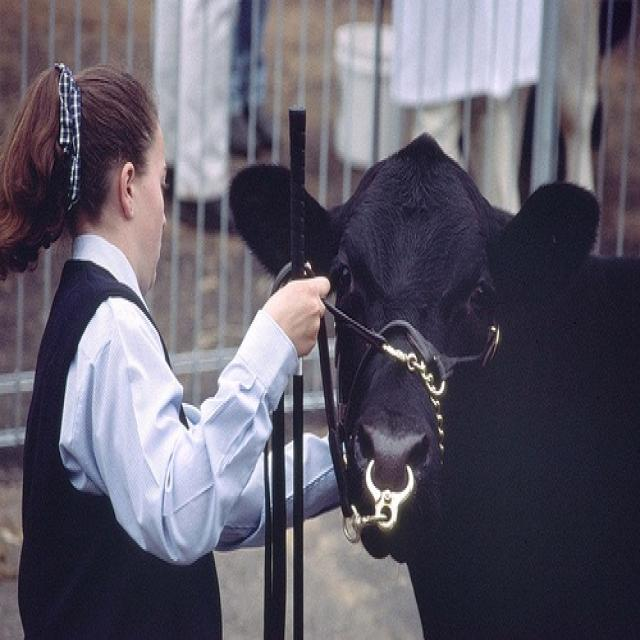cow: (229, 133, 640, 639)
person: (4, 64, 347, 639)
